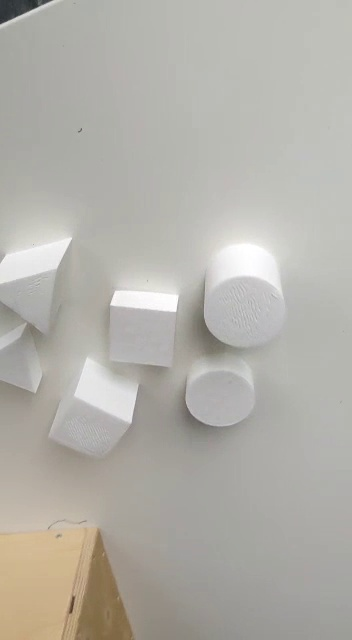Clyinder_short: (178, 350, 259, 430)
Cube: (47, 357, 141, 466)
Cube_short: (102, 286, 180, 371)
Cylinder: (199, 240, 286, 354)
Triangle: (1, 237, 84, 340)
Triangle_short: (1, 319, 53, 402)
